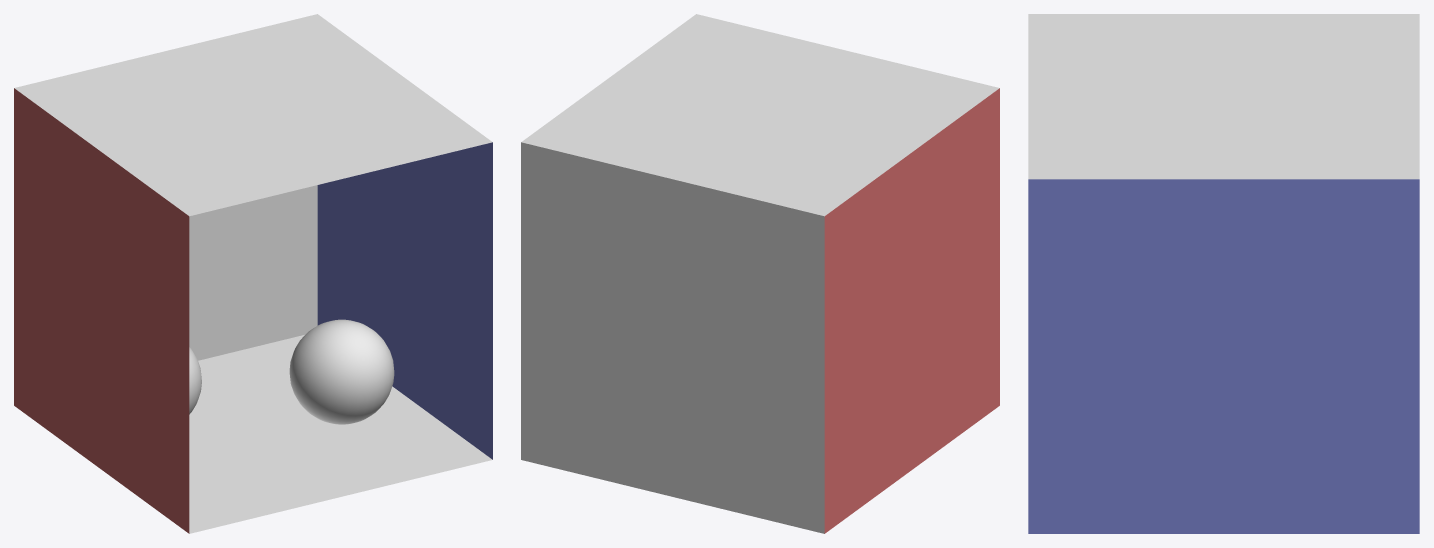
Rendered from CornellBoxSphere.fbx.
3 renders of one model, left to right at view 1: azimuth 30°, elevation 25°; view 2: azimuth 150°, elevation 25°; view 3: azimuth 270°, elevation 25°, orthographic. The views are drawn at different scales.
Visible parts, largest first — view 1: Cube, Sphere.001, Sphere; view 2: Cube; view 3: Cube.
Part boxes in pixels (x1,y1,x2,y2): Cube: (14, 14, 492, 533); Sphere.001: (289, 319, 394, 424); Sphere: (189, 347, 201, 414); Cube: (521, 14, 999, 533); Cube: (1028, 14, 1419, 533).
Bounding box in the file's own units: 2 × 2 × 2.
